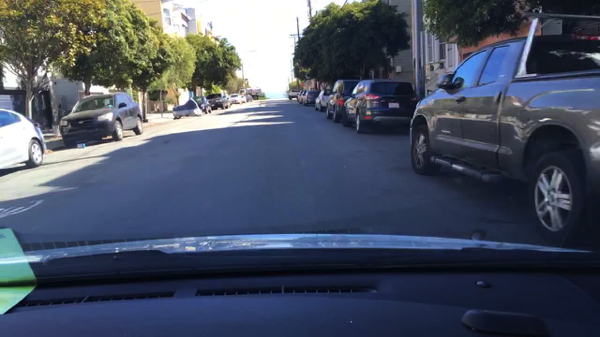car: (408, 7, 599, 244), (58, 91, 143, 150), (341, 79, 420, 134), (0, 106, 47, 173), (325, 79, 362, 124), (206, 92, 231, 110), (314, 88, 332, 112), (190, 95, 212, 114), (302, 89, 321, 106), (228, 93, 242, 105), (287, 89, 300, 100), (238, 94, 253, 103), (295, 89, 303, 103), (299, 89, 307, 103)
motor: (172, 98, 203, 120)
truck: (239, 88, 264, 100)
